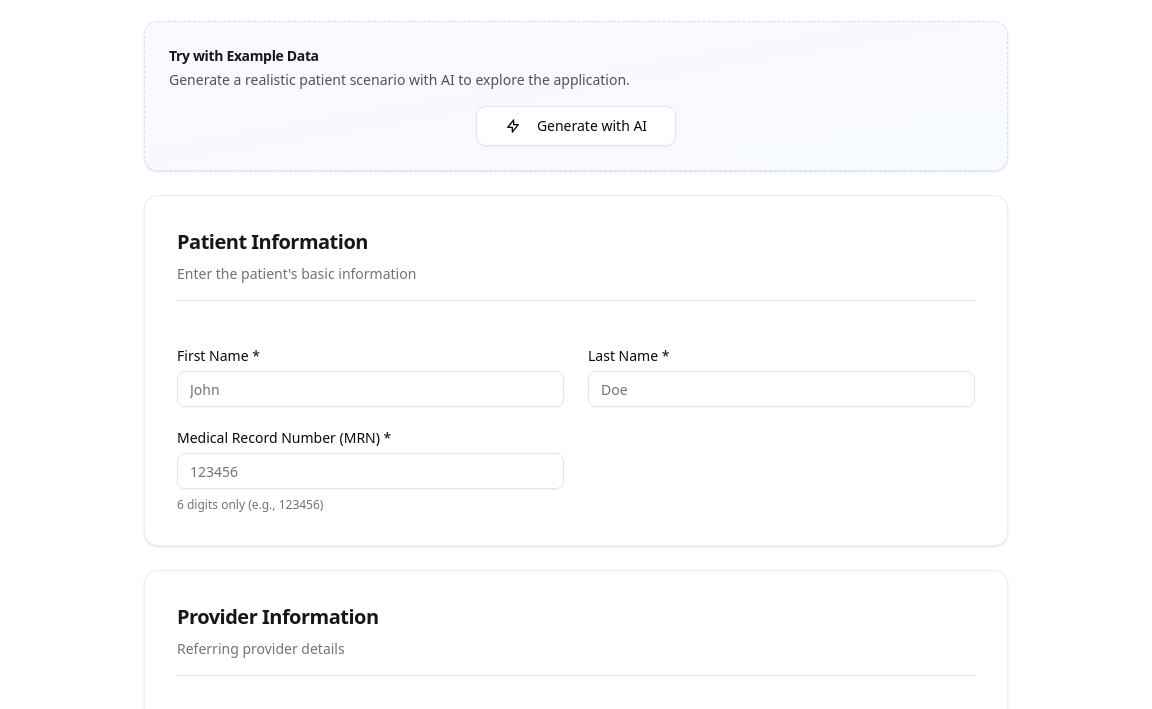
Scenario: PatientForm › form validation › validates MRN is exactly 6 digits
Type "12345" into the field labelled "Medical Record Number (MRN) *" at x=370, y=471, box [177,453,564,489]
(page scrolled)
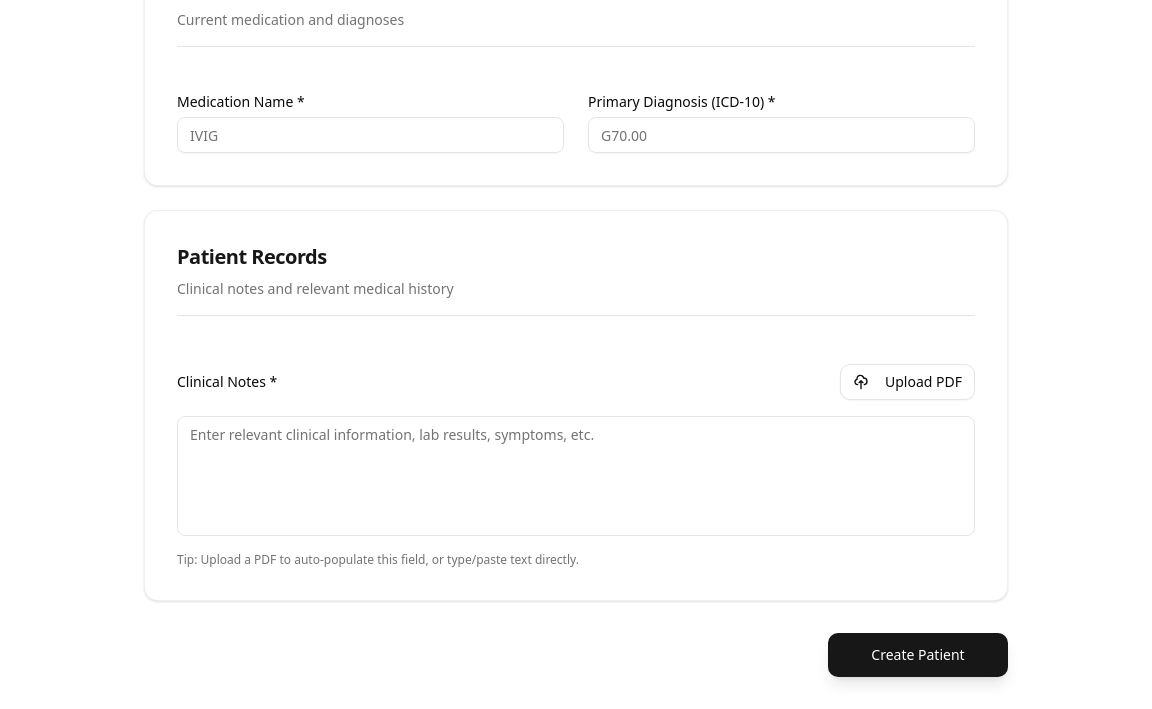
Click the button "Create Patient" at x=918, y=655, box [828,633,1008,677]
(page scrolled)
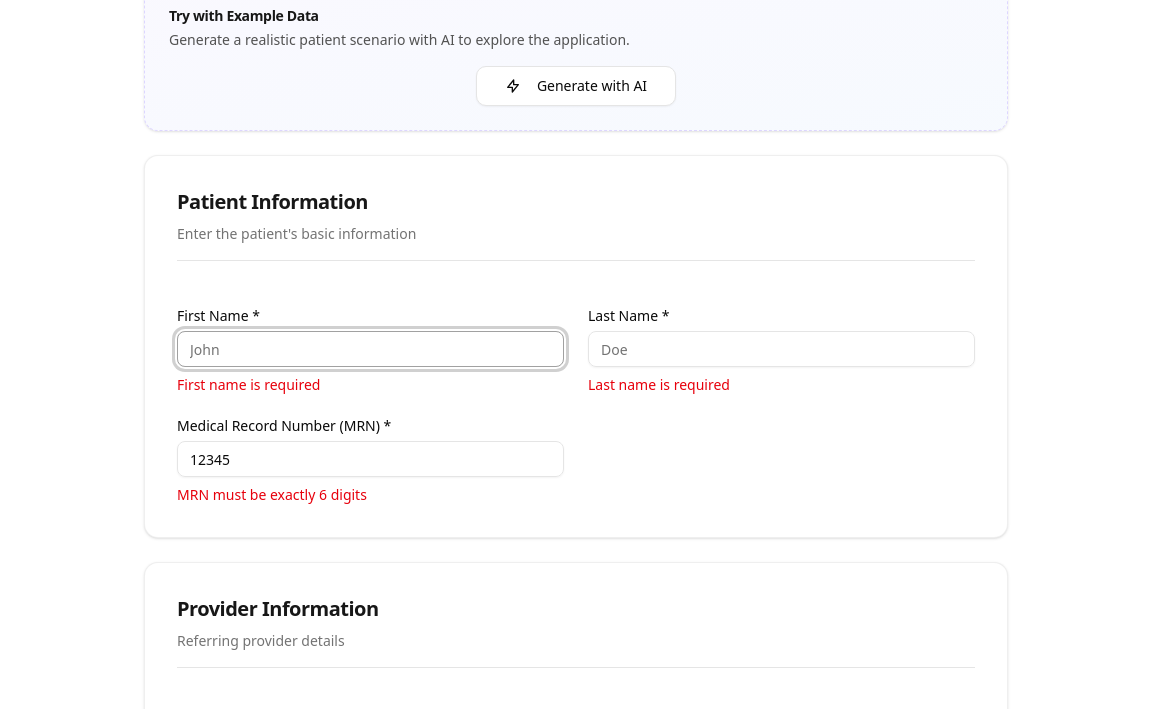
Check: the text "MRN must be exactly 6 digits" is shown, box [177,485,367,504]
